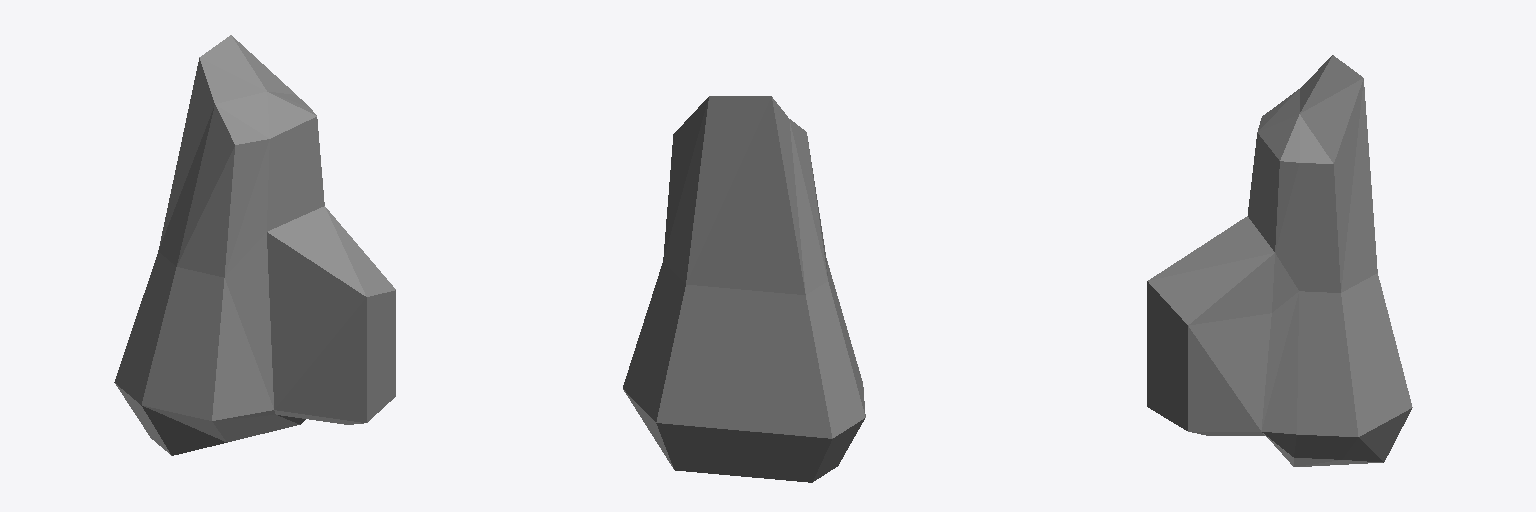
The model's file is stone_big_03.obj.
3 renders of one model, left to right at view 1: azimuth 30°, elevation 25°; view 2: azimuth 150°, elevation 25°; view 3: azimuth 270°, elevation 25°, orthographic.
Bounding box in the file's own units: 2.76 × 4.63 × 2.99.